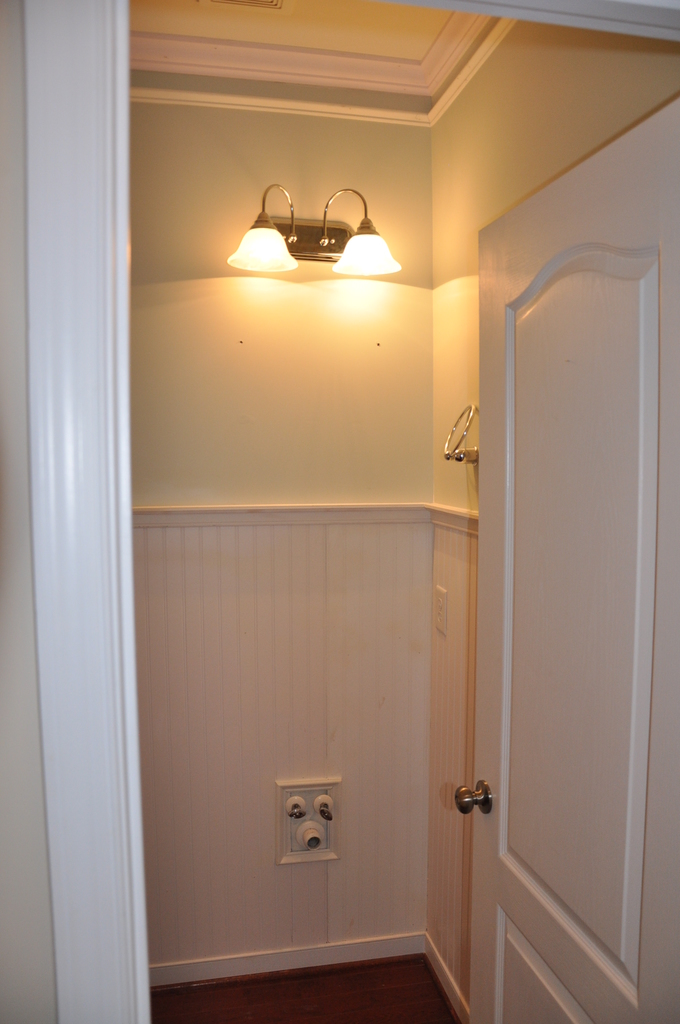Door: (478, 162, 662, 936)
